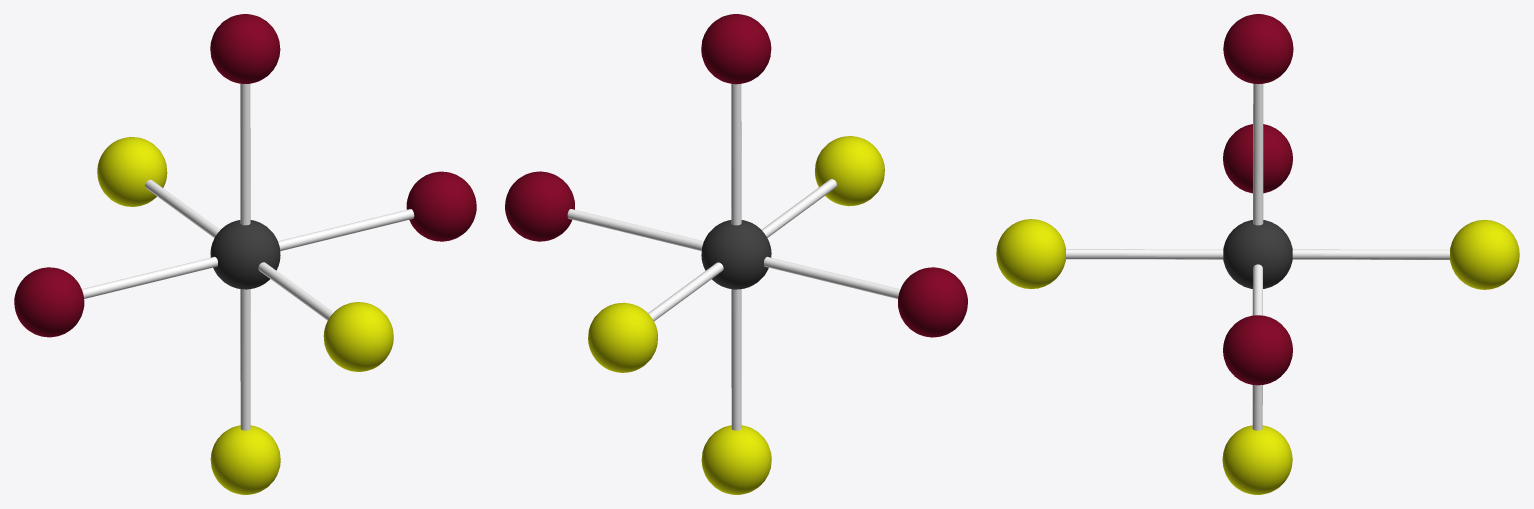
The model's file is asset.glb.
The picture shows the model from 3 angles, left to right: view 1: azimuth 30°, elevation 25°; view 2: azimuth 150°, elevation 25°; view 3: azimuth 270°, elevation 25°; orthographic projection.
Visible parts, largest first — view 1: Sphere.004_7, Sphere.003_4, Sphere.001_3, Sphere.002_5, Sphere.005_6, Sphere_2, Sphere.006_8, Cylinder.001_10, Cylinder.002_1, Cylinder_0; view 2: Sphere.004_7, Sphere.003_4, Sphere_2, Sphere.002_5, Sphere.005_6, Sphere.001_3, Sphere.006_8, Cylinder.001_10, Cylinder.002_1, Cylinder_0; view 3: Sphere.003_4, Sphere_2, Sphere.001_3, Sphere.005_6, Sphere.002_5, Sphere.006_8, Cylinder_0, Sphere.004_7, Cylinder.001_10.
Part boxes in pixels (bbox=[...]): Sphere.004_7: bbox=[14, 267, 84, 337]; Sphere.003_4: bbox=[210, 14, 280, 83]; Sphere.001_3: bbox=[323, 302, 393, 371]; Sphere.002_5: bbox=[210, 425, 280, 494]; Sphere.005_6: bbox=[406, 171, 476, 241]; Sphere_2: bbox=[97, 137, 167, 206]; Sphere.006_8: bbox=[210, 220, 280, 289]; Cylinder.001_10: bbox=[240, 83, 250, 430]; Cylinder.002_1: bbox=[81, 209, 414, 298]; Cylinder_0: bbox=[145, 179, 333, 320]; Sphere.004_7: bbox=[898, 267, 967, 337]; Sphere.003_4: bbox=[701, 14, 771, 84]; Sphere_2: bbox=[588, 302, 657, 372]; Sphere.002_5: bbox=[701, 425, 771, 494]; Sphere.005_6: bbox=[505, 171, 574, 241]; Sphere.001_3: bbox=[815, 136, 884, 206]; Sphere.006_8: bbox=[701, 220, 771, 289]; Cylinder.001_10: bbox=[731, 84, 741, 430]; Cylinder.002_1: bbox=[567, 209, 900, 298]; Cylinder_0: bbox=[648, 179, 836, 321]; Sphere.003_4: bbox=[1223, 14, 1293, 84]; Sphere_2: bbox=[1450, 219, 1519, 289]; Sphere.001_3: bbox=[996, 219, 1065, 289]; Sphere.005_6: bbox=[1223, 315, 1292, 385]; Sphere.002_5: bbox=[1222, 425, 1292, 494]; Sphere.006_8: bbox=[1223, 220, 1292, 288]; Cylinder_0: bbox=[1066, 249, 1449, 259]; Sphere.004_7: bbox=[1223, 124, 1292, 193]; Cylinder.001_10: bbox=[1252, 83, 1263, 430].
Size of the model in its own units: 14.91 by 14.91 by 14.91.
